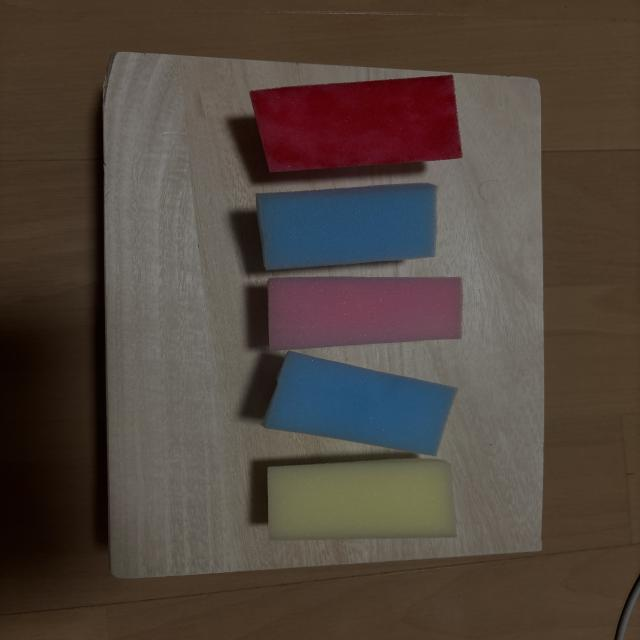ika: (263, 352, 457, 455), (257, 183, 436, 270)
maguro: (250, 75, 462, 171)
tai: (268, 277, 462, 350)
tamago: (268, 458, 456, 540)
